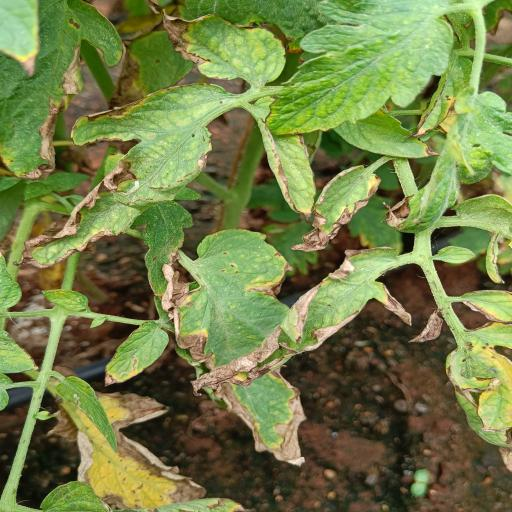Early Blight: (190, 246, 413, 396), (175, 227, 306, 467), (442, 320, 512, 454), (288, 162, 386, 255)
